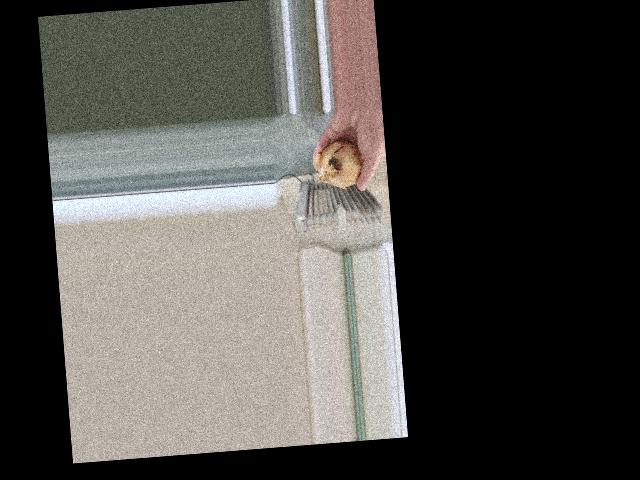onion: (317, 130, 366, 190)
